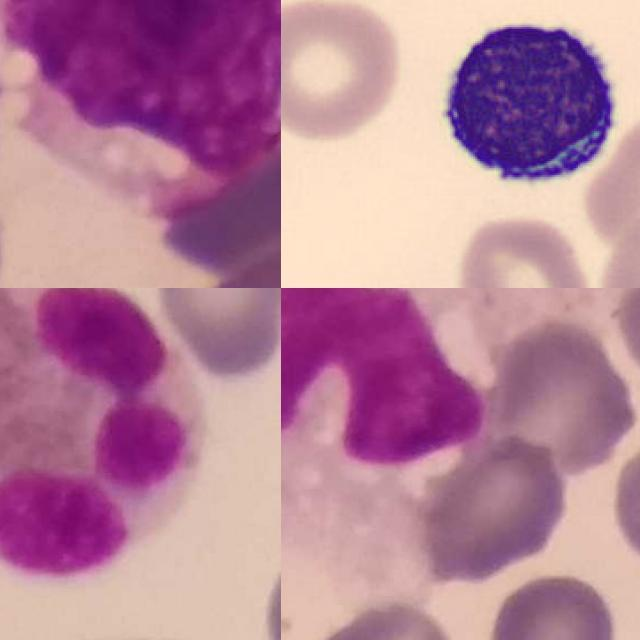Eosinophil: (0, 288, 199, 574)
Lymphocyte: (420, 2, 630, 205)
Monocyte: (0, 0, 281, 214), (281, 288, 503, 472)
RBC: (281, 0, 409, 145), (453, 210, 595, 288), (579, 106, 640, 261)
